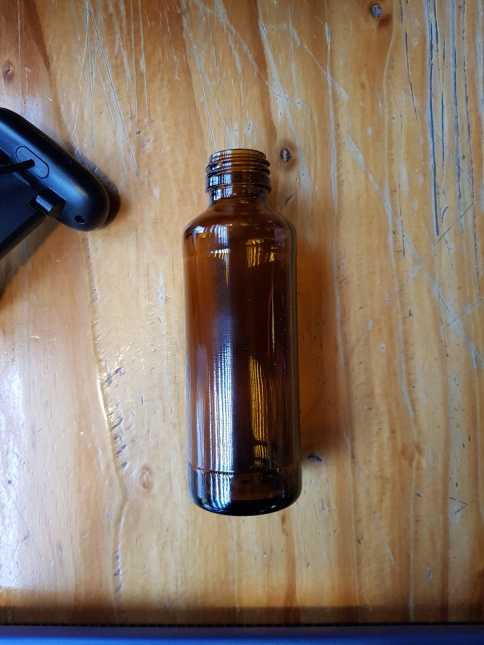Glass: (180, 147, 310, 519)
